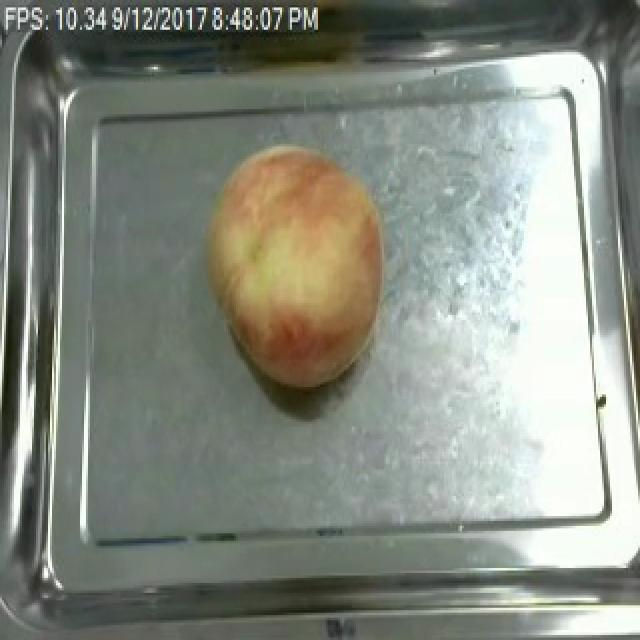Fruit: (198, 136, 396, 397)
